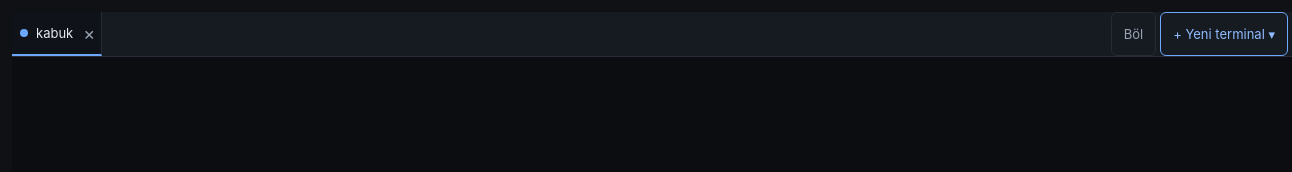
Scenario: TerminalsPanel › shows the engine's error when opening fails and keeps the menu open
Click the button "+ Yeni terminal ▾": (1224, 34) 1160,12 -> 1288,56
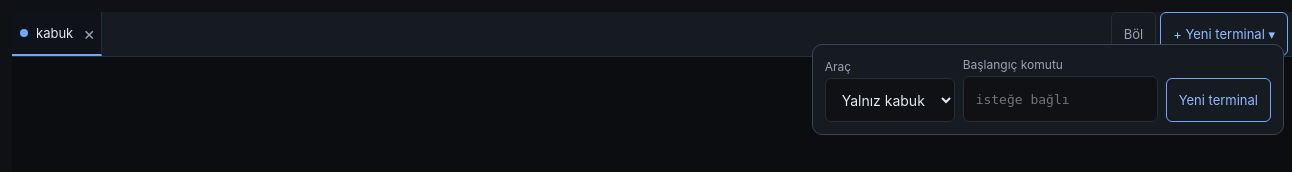
In the field labelled "Başlangıç komutu": (1060, 99) 963,76 -> 1158,122, type "x"
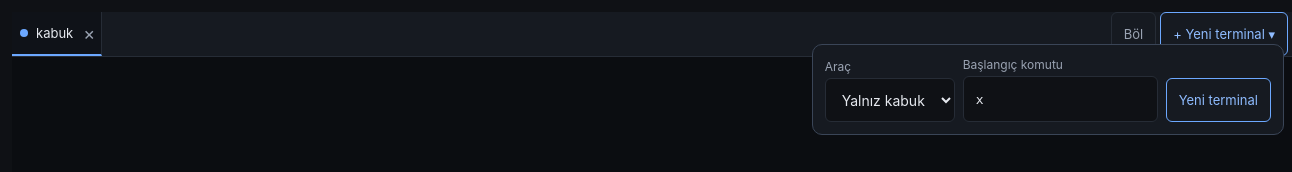
Click the button "Yeni terminal": (1218, 100) 1166,78 -> 1271,122
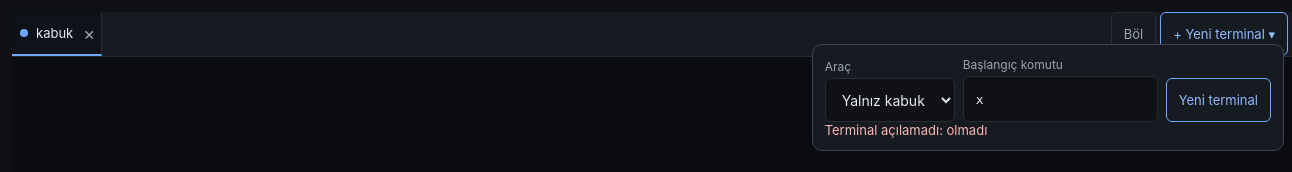
expect the element "Yeni terminal" is shown: met, box 812,44 -> 1284,151
expect the message shows "olmadı": met, box 825,122 -> 987,138
